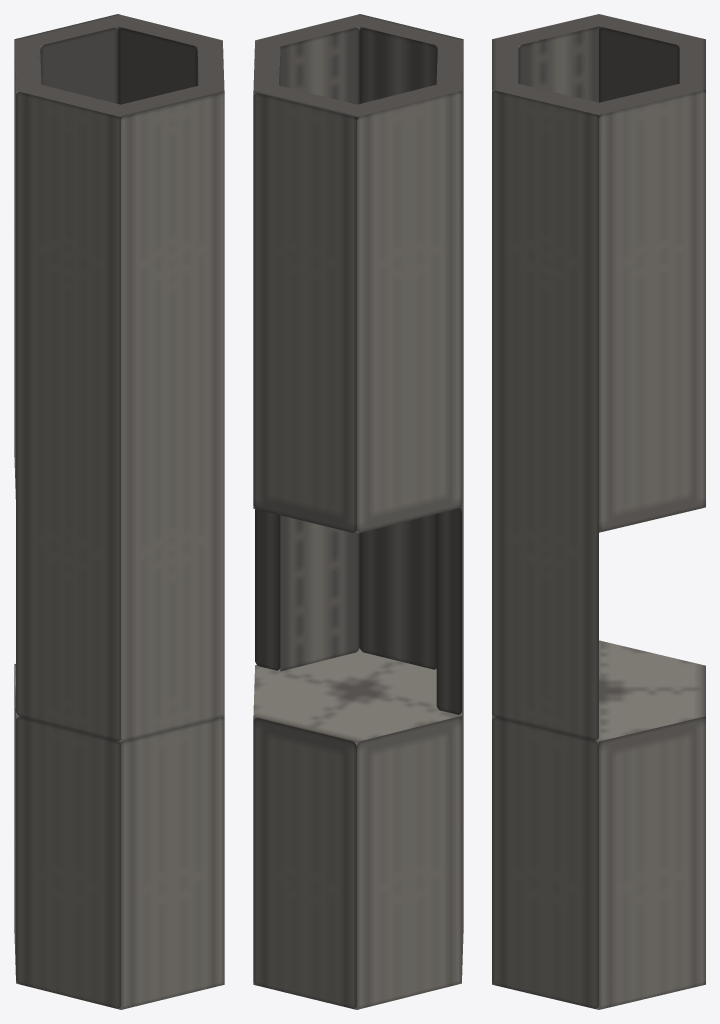
The model's file is cell_pipe.obj.
3 renders of one model, left to right at view 1: azimuth 30°, elevation 25°; view 2: azimuth 150°, elevation 25°; view 3: azimuth 270°, elevation 25°, orthographic.
Parts seen in each view (by area): view 1: body, base; view 2: body, base; view 3: body, base.
Part boxes in pixels (bbox=[...]): body: bbox=[14, 14, 224, 741]; base: bbox=[14, 664, 224, 1009]; body: bbox=[253, 14, 463, 714]; base: bbox=[253, 648, 463, 1009]; body: bbox=[492, 14, 705, 740]; base: bbox=[492, 640, 705, 1009].
Bounding box in the file's own units: 0.9092 × 3.75 × 0.8125.
1 material, 1 textured.
